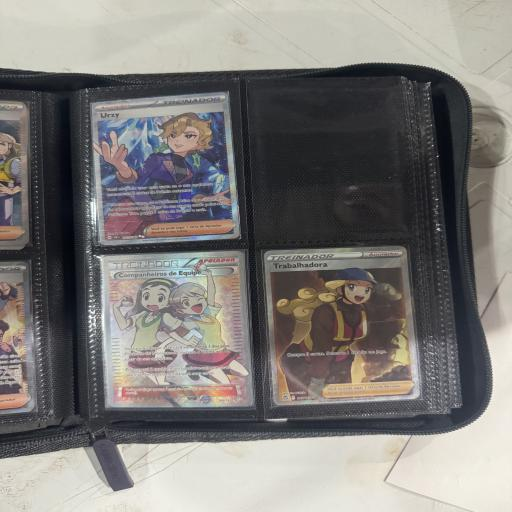card: (262, 239, 421, 409), (98, 250, 256, 415), (91, 92, 240, 246)
